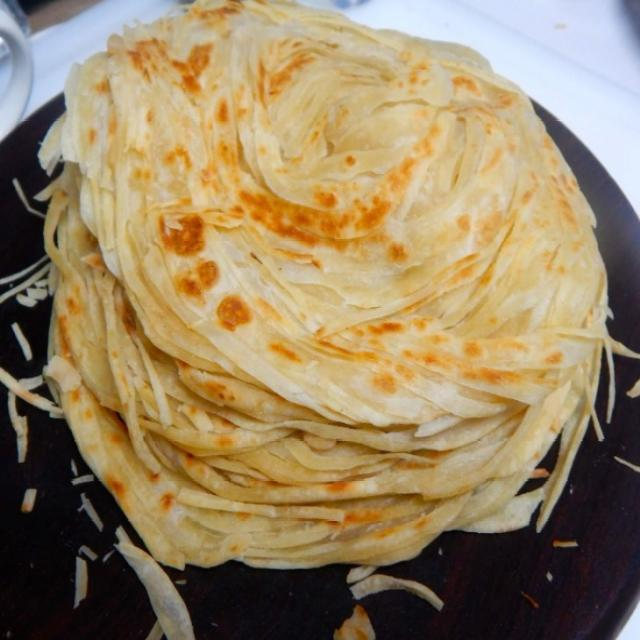PAROTTA: (37, 0, 613, 575)
